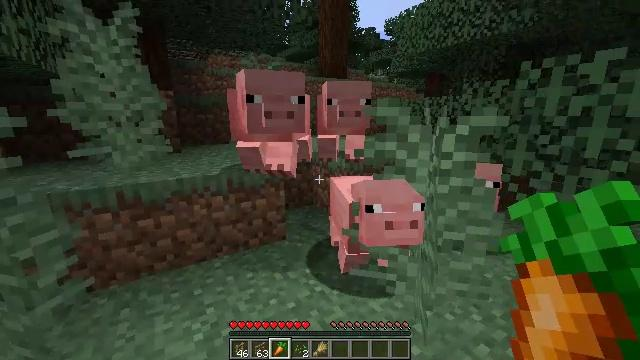pig: (330, 176, 425, 283), (236, 69, 313, 176), (317, 80, 373, 158)
